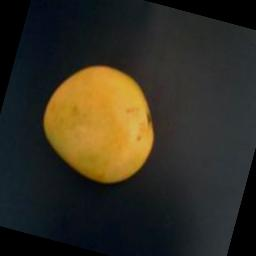Mango Ripe: (24, 46, 190, 202)
